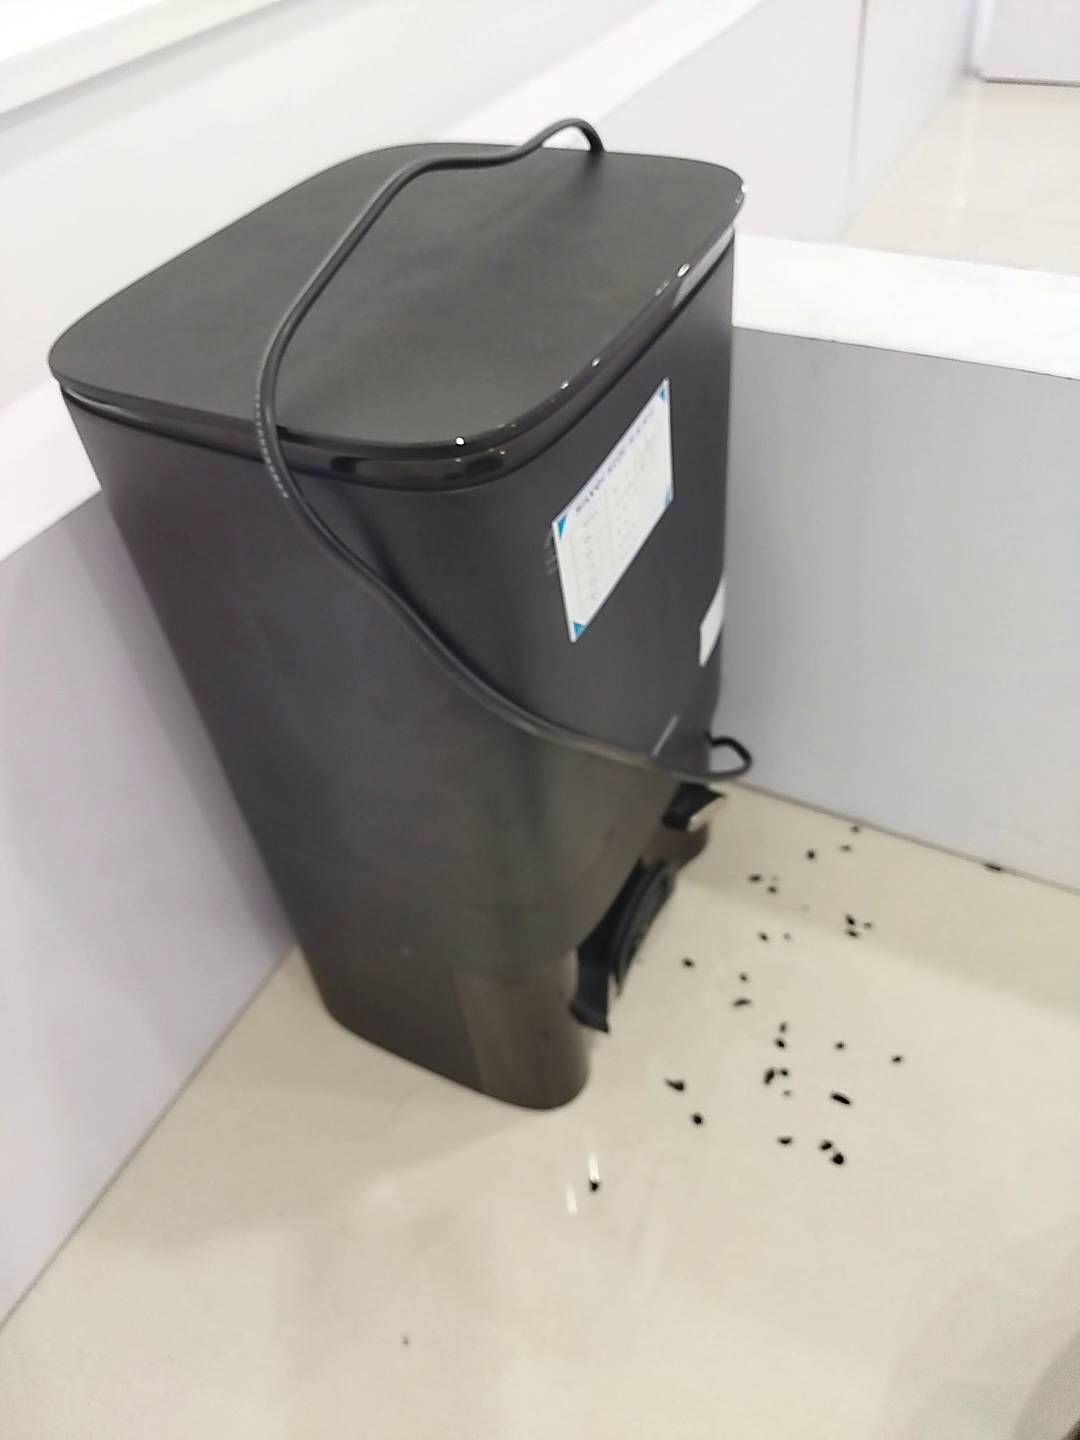dust collecting barrel: (50, 142, 750, 1112)
